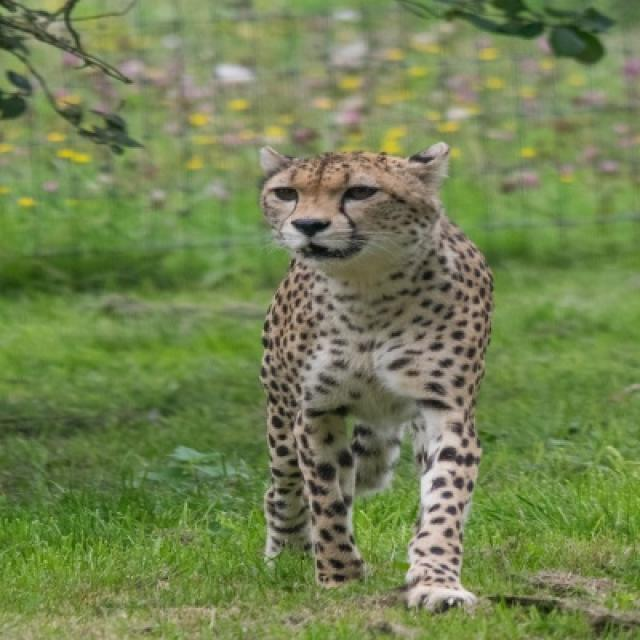Cheetah: (261, 142, 491, 608)
